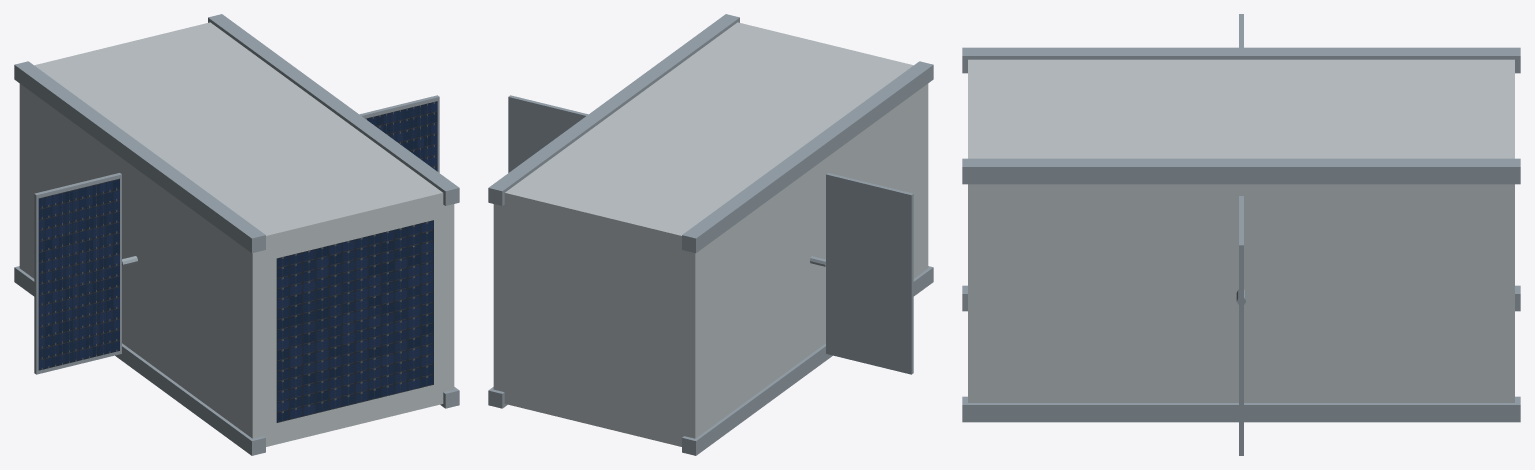
Rendered from ref-cubesat-1-5u-41854.glb.
The picture shows the model from 3 angles, left to right: view 1: azimuth 30°, elevation 25°; view 2: azimuth 150°, elevation 25°; view 3: azimuth 270°, elevation 25°; orthographic projection. The views are drawn at different scales.
Visible parts, largest first — view 1: Spacecraft body, Body-mounted cells, Photovoltaic laminates (×2), Dispenser rail (×3), Array frame (×2); view 2: Spacecraft body, Array frame (×2), Dispenser rail (×3); view 3: Spacecraft body, Dispenser rail (×3), Array frame.
Part boxes in pixels (x1=…): Spacecraft body: x1=19, y1=22, x2=454, y2=446; Body-mounted cells: x1=276, y1=220, x2=433, y2=422; Photovoltaic laminates (×2): x1=38, y1=101, x2=437, y2=370; Dispenser rail (×3): x1=14, y1=14, x2=459, y2=455; Array frame (×2): x1=34, y1=95, x2=439, y2=374; Spacecraft body: x1=493, y1=22, x2=928, y2=446; Array frame (×2): x1=508, y1=95, x2=913, y2=374; Dispenser rail (×3): x1=488, y1=14, x2=933, y2=455; Spacecraft body: x1=968, y1=59, x2=1514, y2=402; Dispenser rail (×3): x1=962, y1=47, x2=1520, y2=422; Array frame: x1=1239, y1=196, x2=1243, y2=455.
Size of the model in its own units: 0.2 by 0.103 by 0.204.
3 materials, 1 textured.
